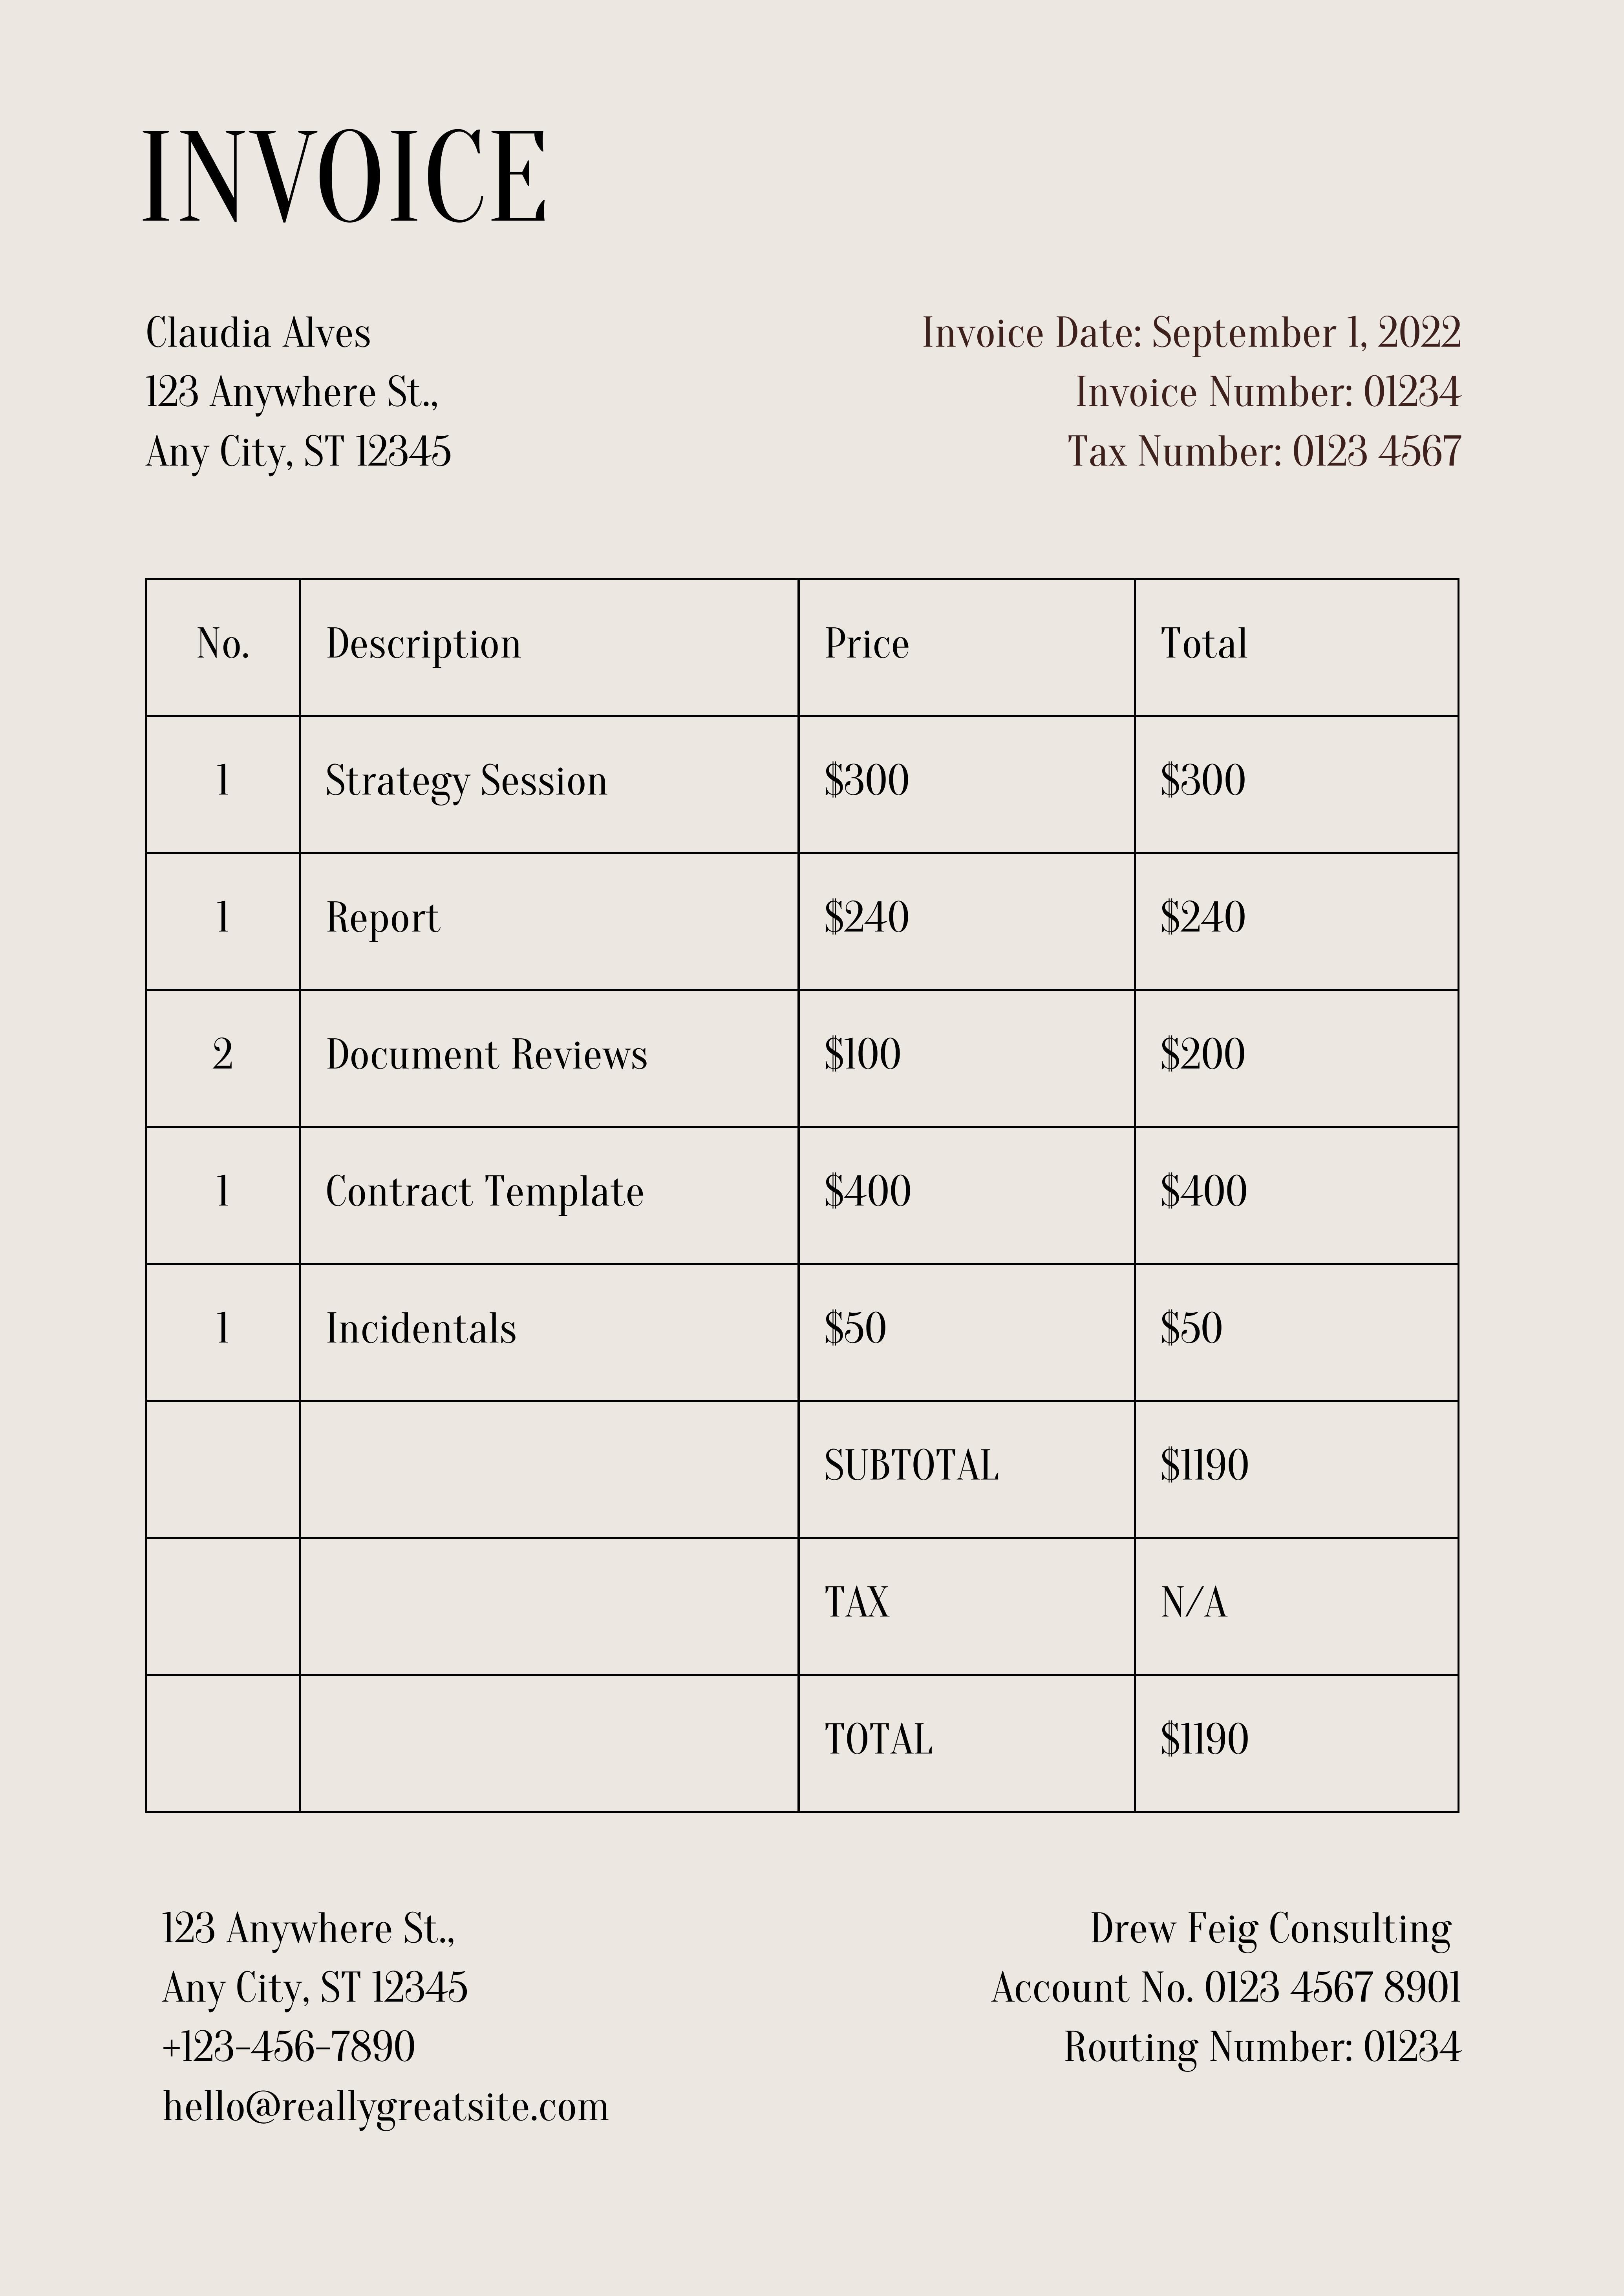ROI: (137, 567, 1482, 1383), (805, 1402, 1439, 1809), (903, 311, 1466, 481), (123, 311, 469, 487), (982, 1966, 1464, 2076), (1079, 1901, 1466, 1960)
